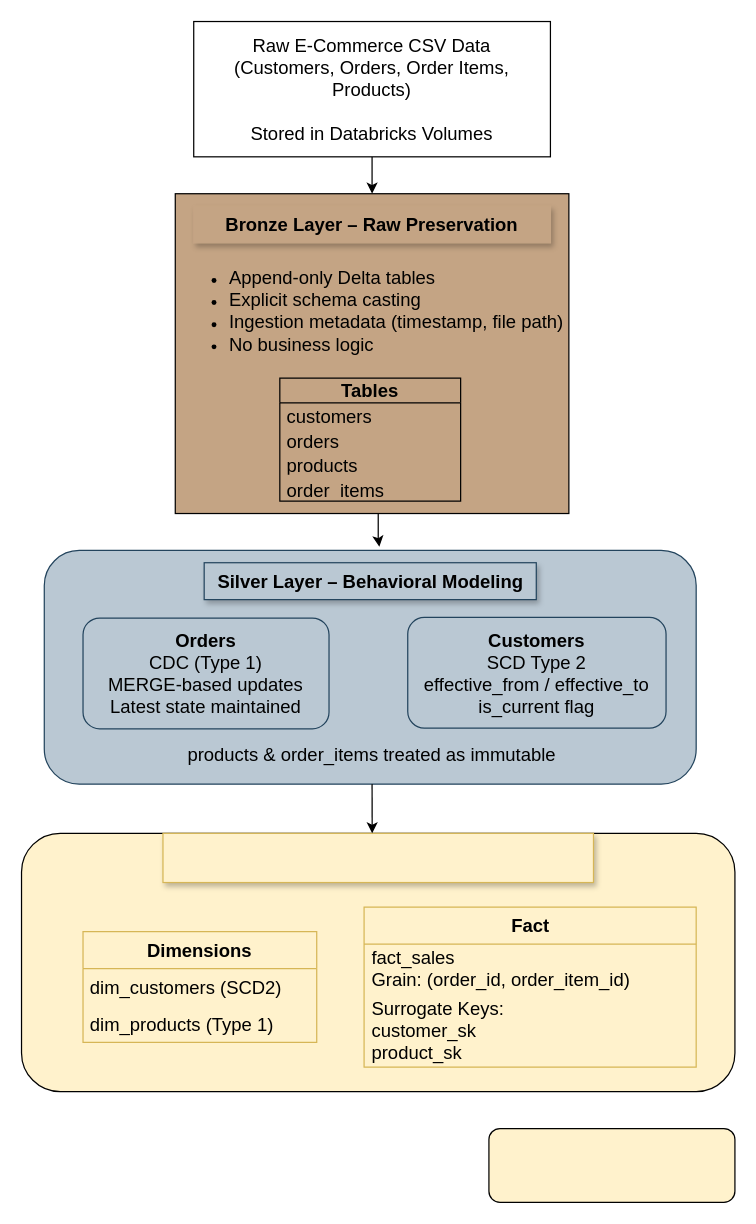
This 756x1224 diagram has some shape labels left out. Each missing label, with the centre of its shape:
"fact_sales_rejects (Invalid or filtered records)" belongs at pixel 611 1164.
"Gold Layer – Analytics Star Schema" belongs at pixel 379 859.
